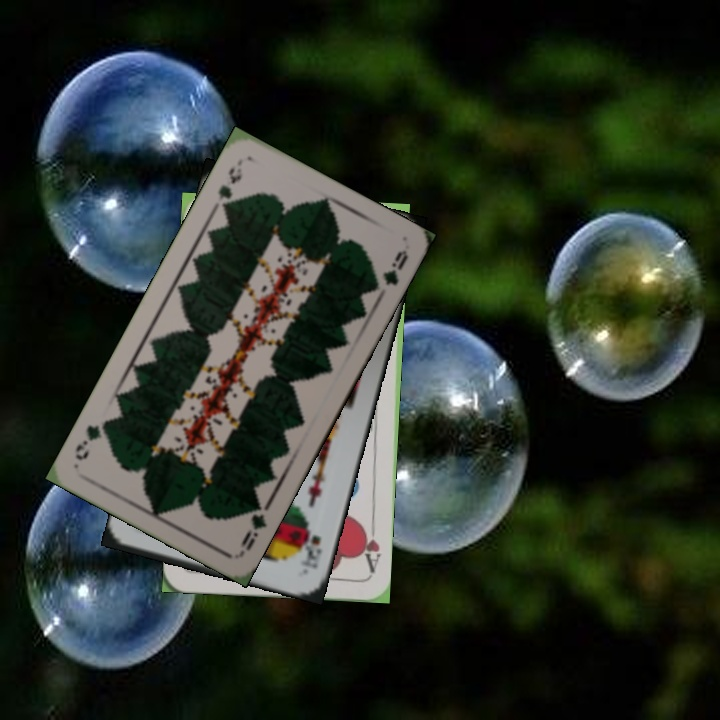G9: (236, 497, 272, 556), (209, 156, 245, 215)
HA: (357, 517, 384, 575)
SK: (296, 526, 325, 572)
